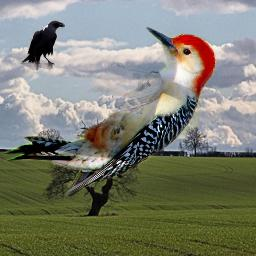Crow: (19, 19, 66, 72)
Woodpecker: (3, 27, 216, 199)
